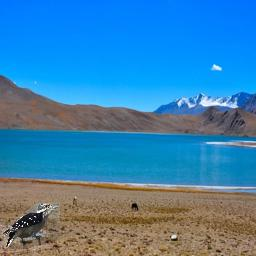Woodpecker: (1, 203, 60, 249)
